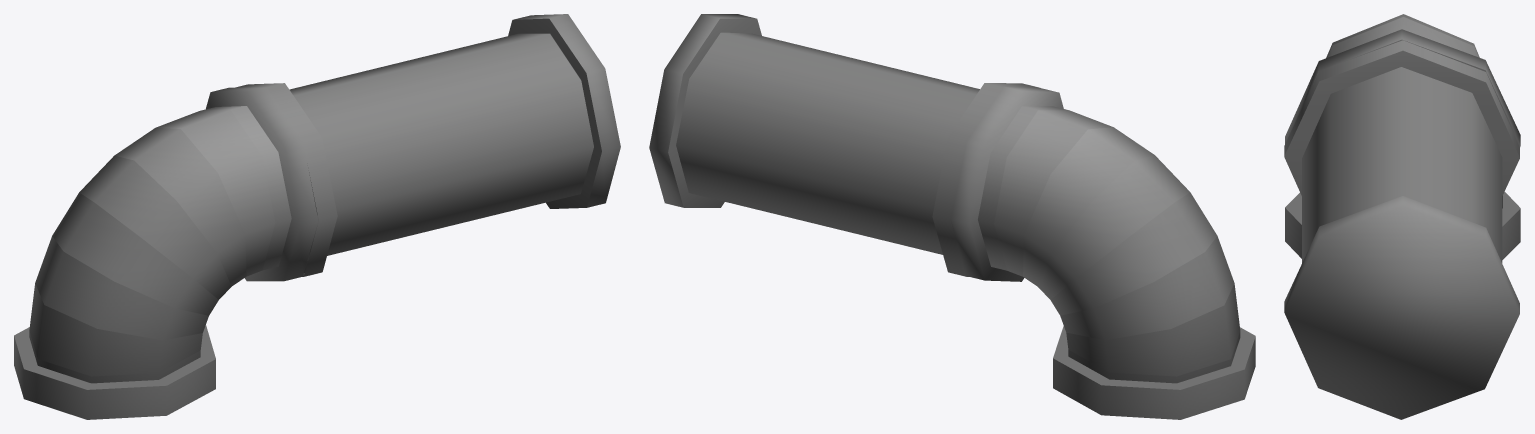
Rendered from Pipe5.glb.
3 views of the same model, side by side, from view 1: azimuth 30°, elevation 25°; view 2: azimuth 150°, elevation 25°; view 3: azimuth 270°, elevation 25° (orthographic). The views are drawn at different scales.
Parts seen in each view (by area): view 1: Pipe5; view 2: Pipe5; view 3: Pipe5.
Boxes of the visible parts, x1=… form: Pipe5: x1=14, y1=14, x2=620, y2=419; Pipe5: x1=649, y1=14, x2=1255, y2=419; Pipe5: x1=1284, y1=14, x2=1520, y2=419.
Size of the model in its own units: 0.9002 by 0.4005 by 0.3014.
1 material, 1 textured.
